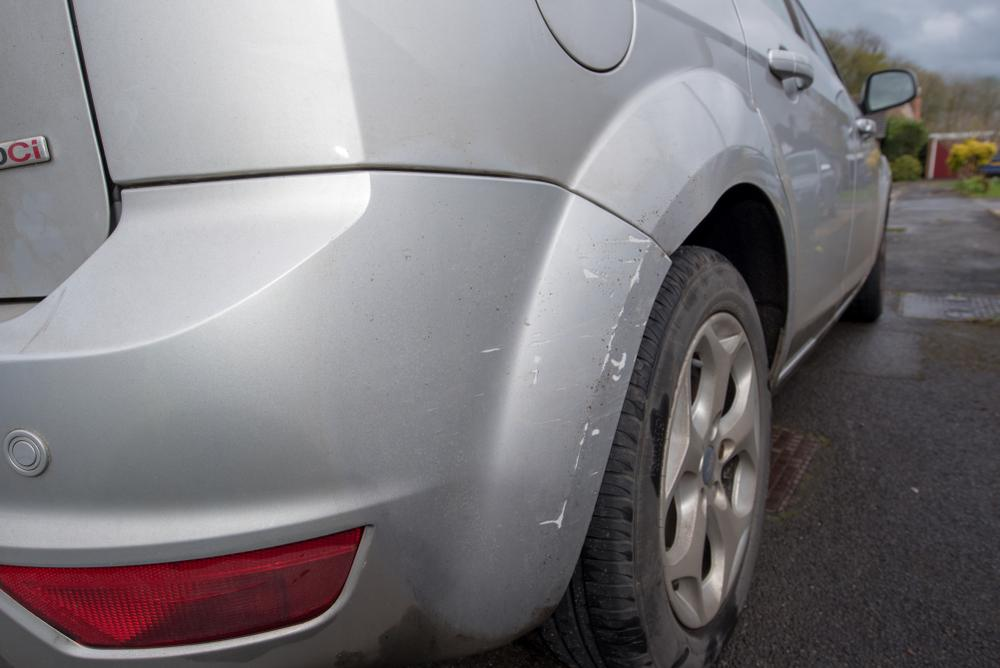scratch: (472, 230, 666, 542)
